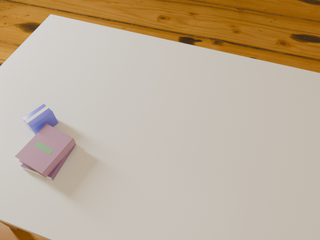book: (15, 124, 76, 177)
box: (23, 104, 58, 135)
